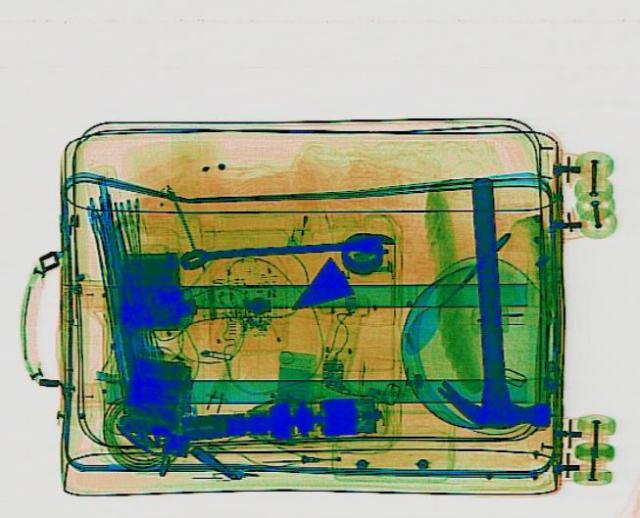Wrench: (175, 230, 395, 268)
